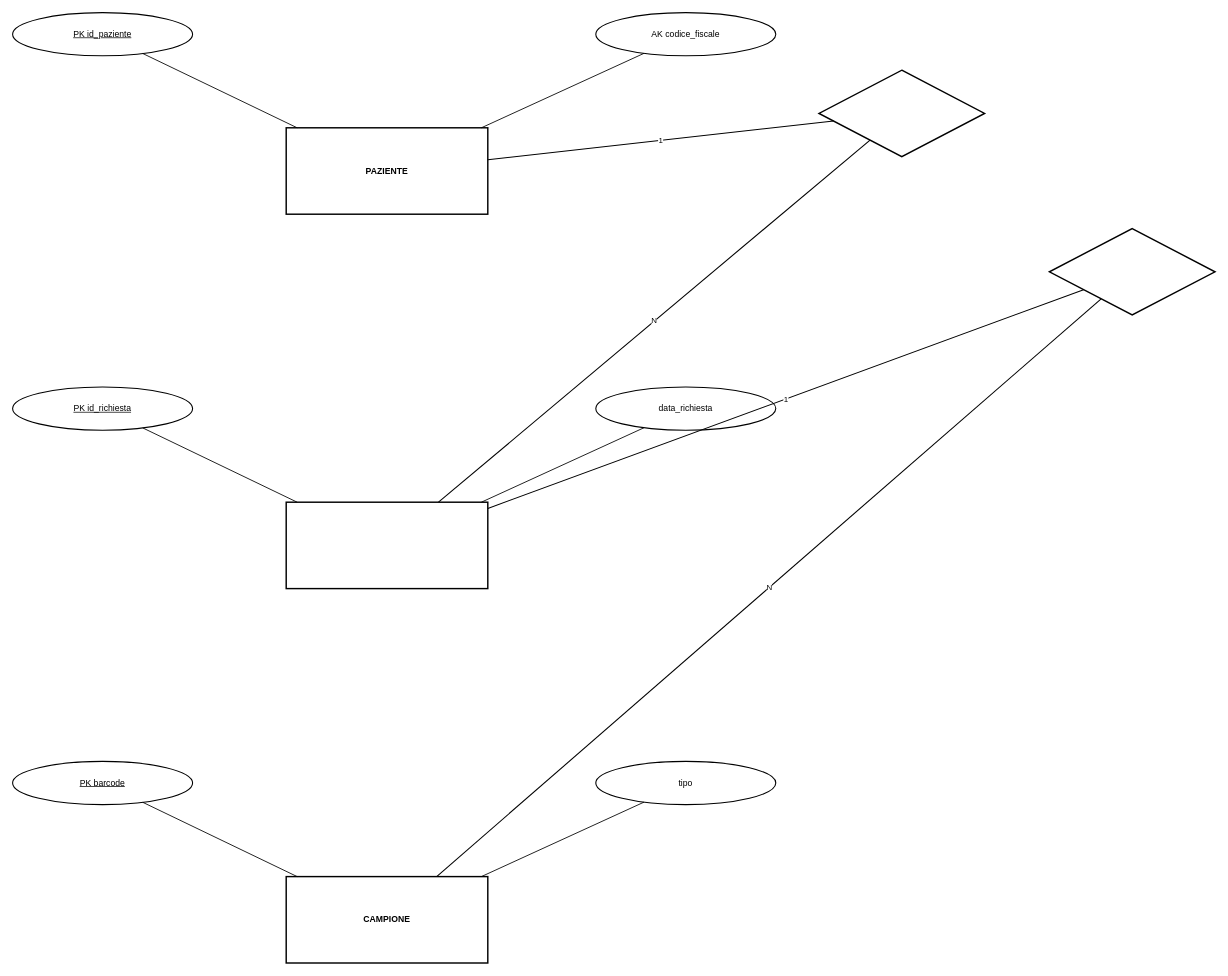
Image size: 1228x976. Some labels were removed from this diagram. Each missing label, with the centre of its shape:
GENERA: point 1131,271
RICHIEDE: point 901,113
RICHIESTA: point 386,545
